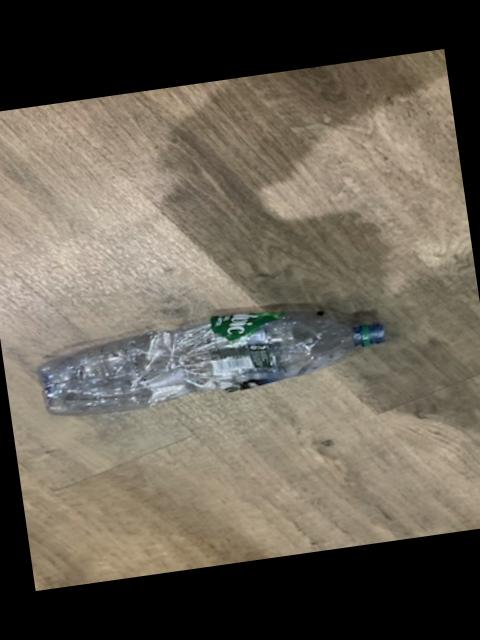plastic: (40, 310, 385, 413)
